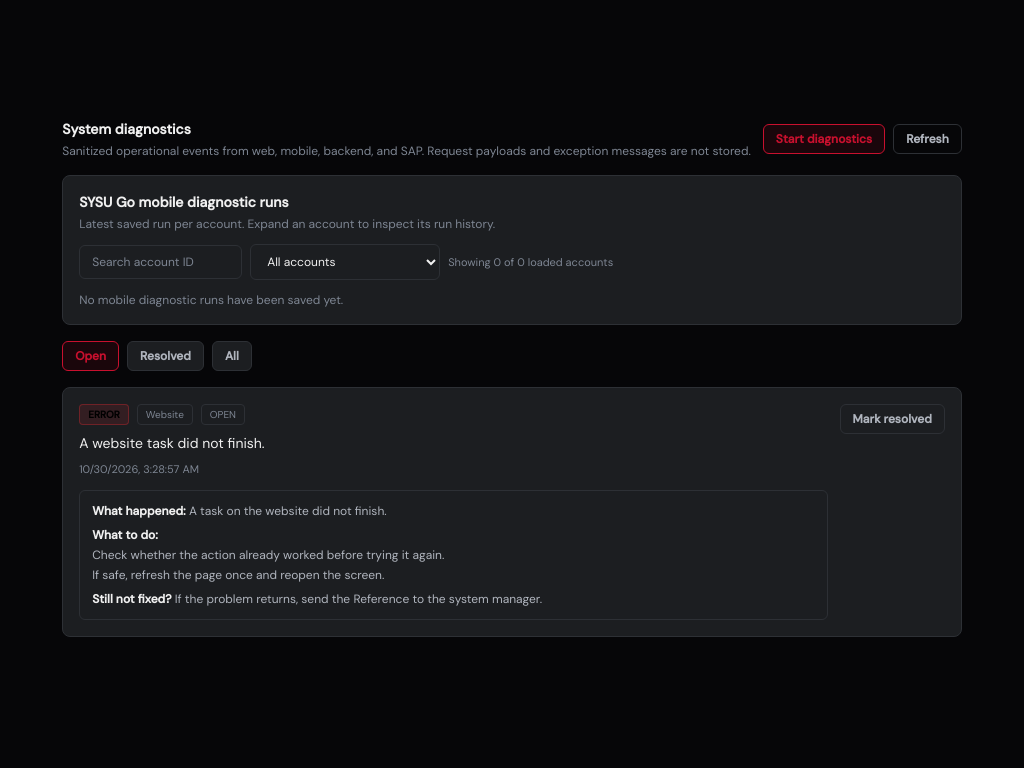
Test: system diagnostics timestamp display › Start diagnostics runs checks and shows their outcome
Click the button "Start diagnostics".
click(824, 139)  # box [763,124,885,154]
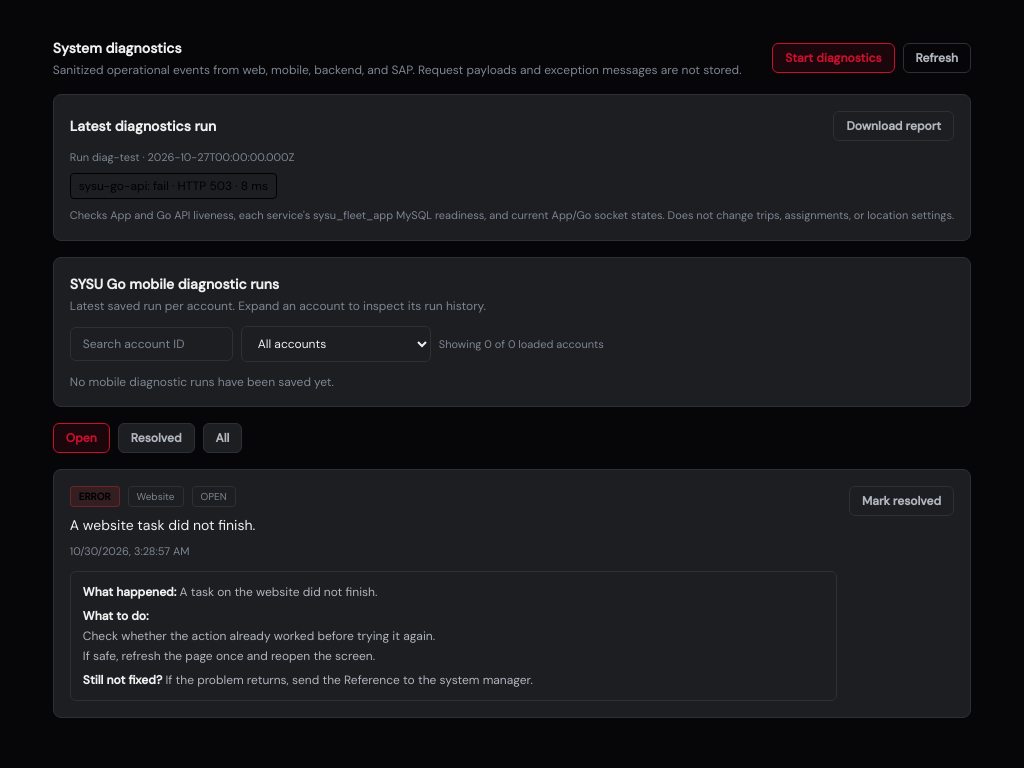
Now the element with id "docsListContainer" shows "HTTP 503", box [79,178,268,194]
